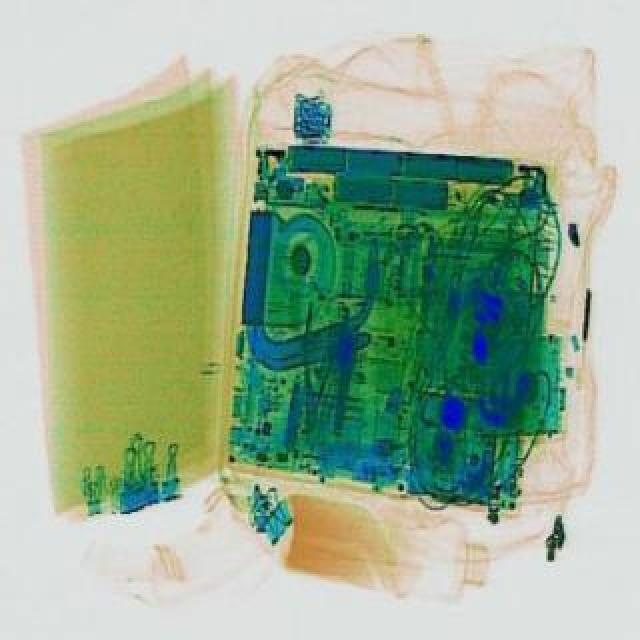wrench: (288, 298, 348, 430)
